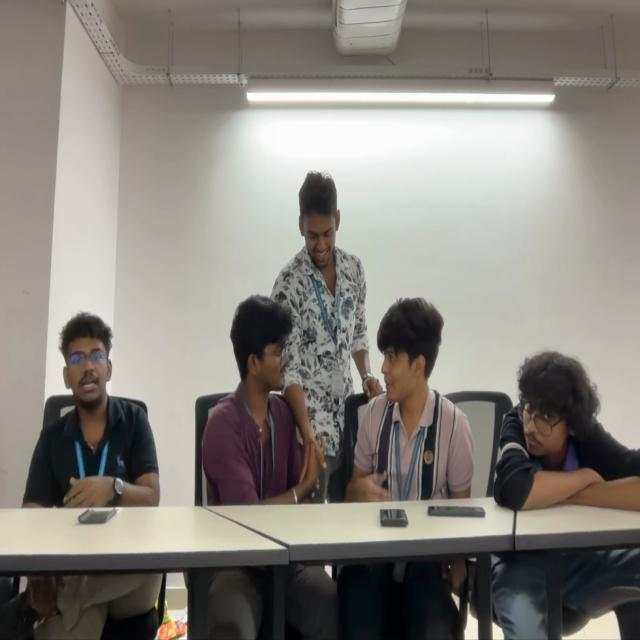Isolated: (22, 312, 162, 506), (492, 352, 640, 507)
socializing: (196, 169, 474, 498)
